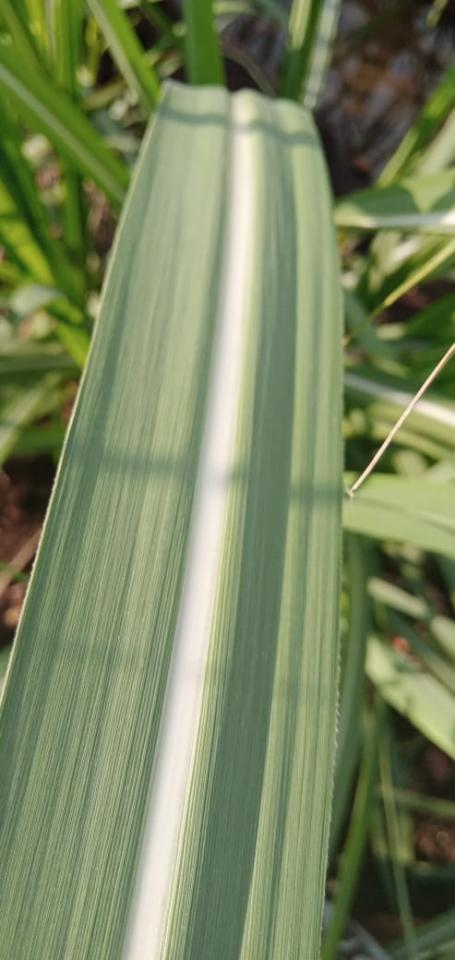Healthy: (0, 83, 342, 959)
